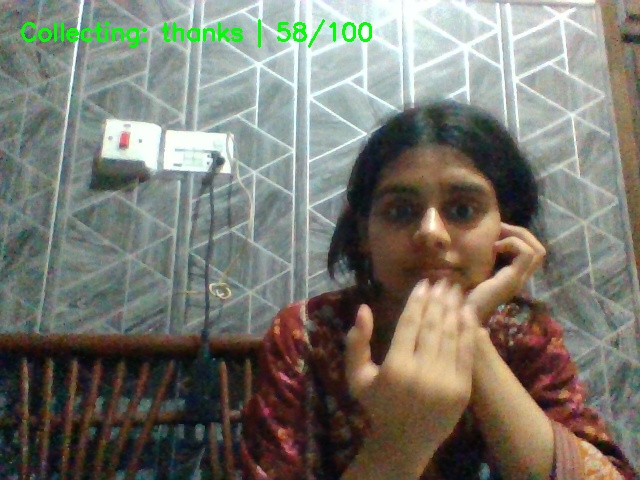thanks: (336, 273, 512, 480)
